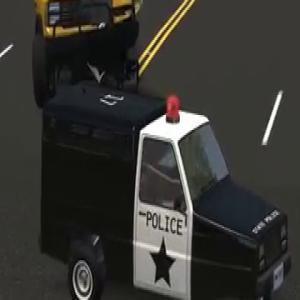fatal: (28, 0, 288, 300)
